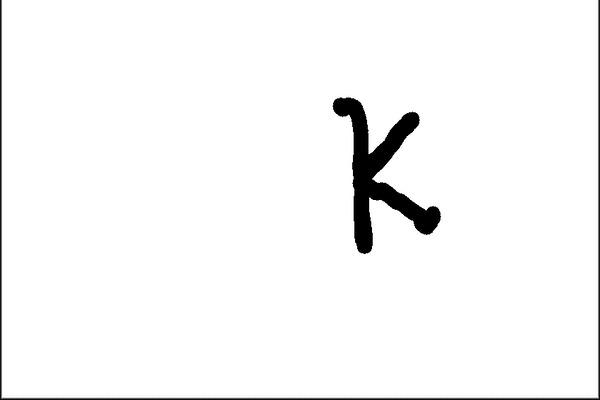K: (329, 88, 445, 258)
